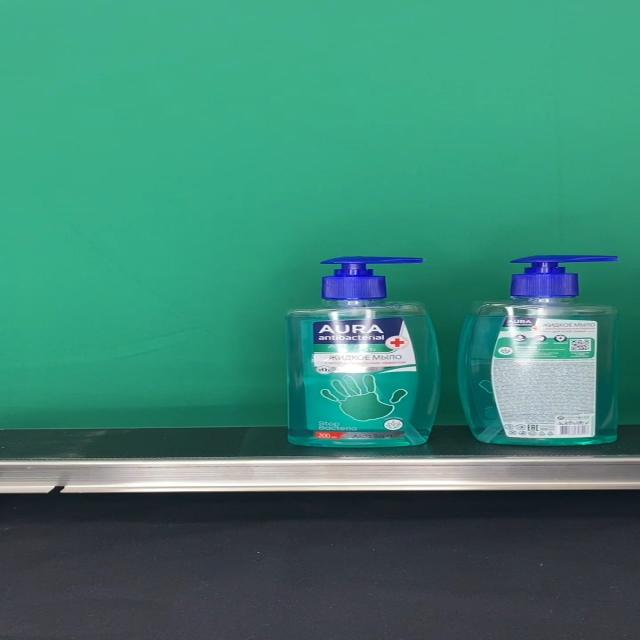Bottle: (456, 253, 620, 446), (286, 255, 440, 447)
Cap: (509, 254, 619, 298), (319, 255, 423, 299)
